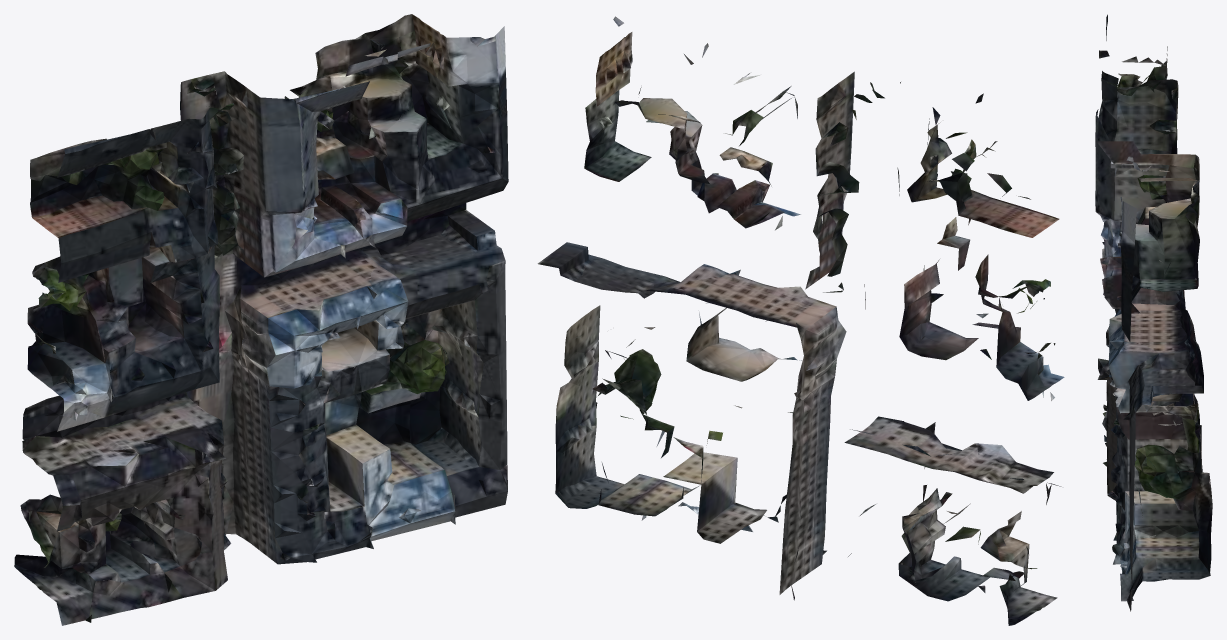
The model's file is Tile_+037_+023_L17_0001.glb.
3 views of the same model, side by side, from view 1: azimuth 30°, elevation 25°; view 2: azimuth 150°, elevation 25°; view 3: azimuth 270°, elevation 25° (orthographic). The views are drawn at different scales.
Size of the model in its own units: 126 by 126 by 32.14.
Materials: 1 (1 with a texture image).
